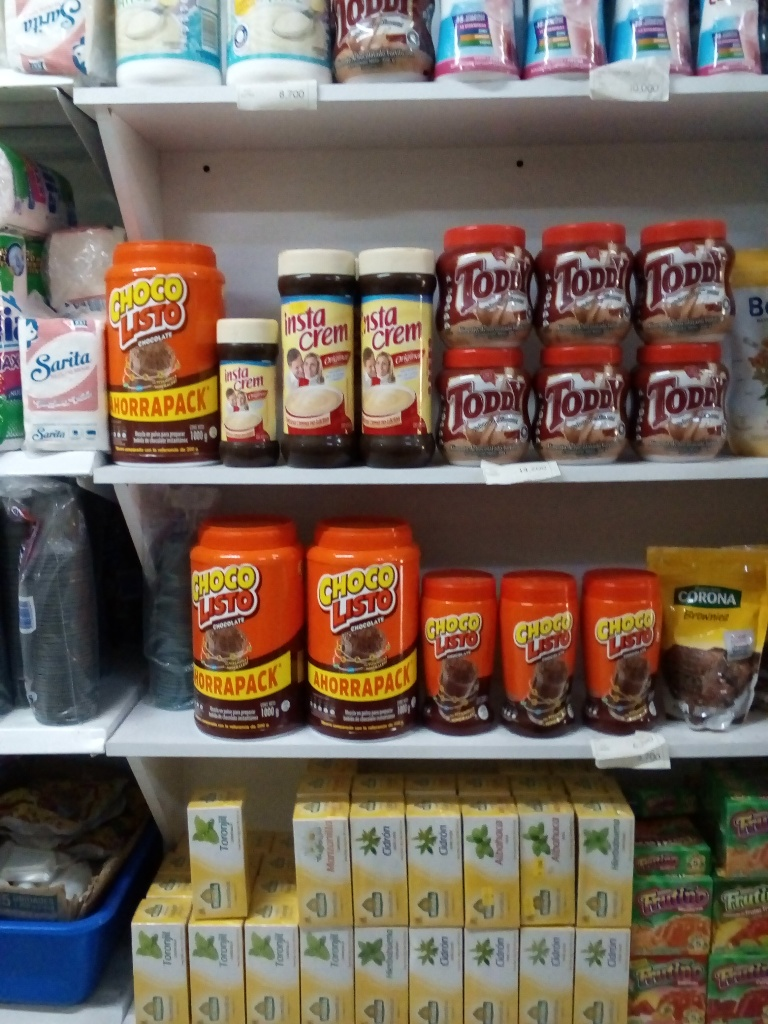COL0170103TRR00100: (184, 509, 306, 743)
